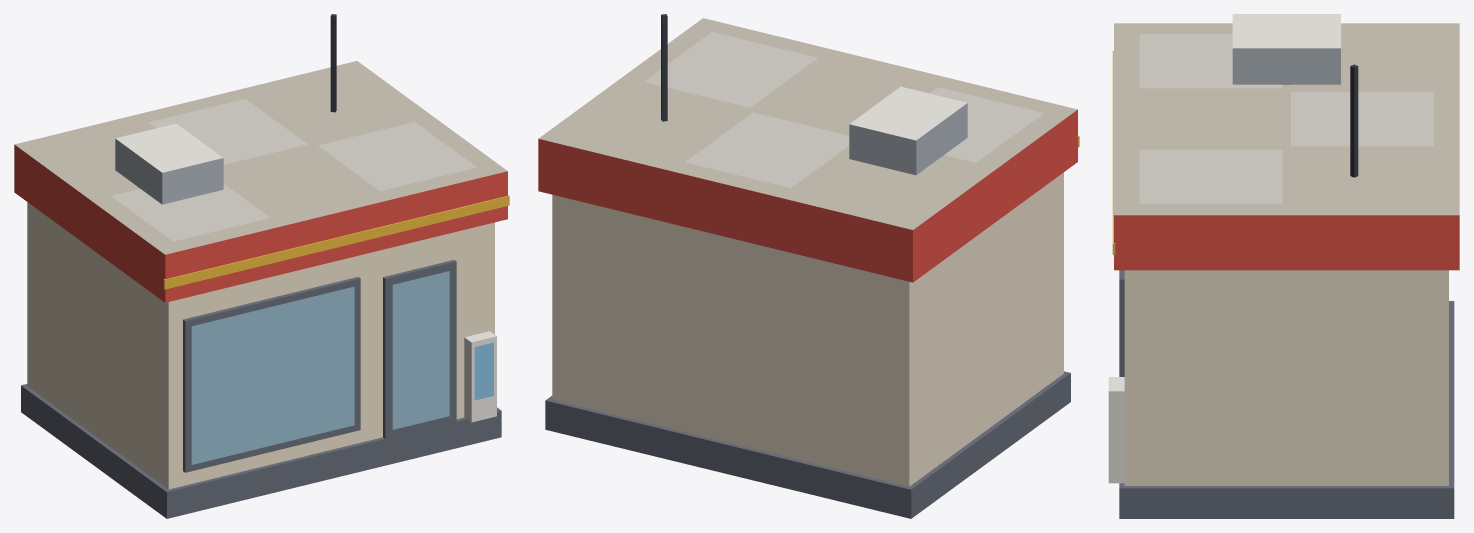
File: B_GasShop.fbx
3 views of the same model, side by side, from view 1: azimuth 30°, elevation 25°; view 2: azimuth 150°, elevation 25°; view 3: azimuth 270°, elevation 25° (orthographic). The views are drawn at different scales.
Visible parts, largest first — view 1: B_GasShop; view 2: B_GasShop; view 3: B_GasShop.
Boxes of the visible parts, bbox=[...] form: B_GasShop: bbox=[14, 14, 509, 518]; B_GasShop: bbox=[538, 14, 1079, 518]; B_GasShop: bbox=[1108, 14, 1459, 518].
Bounding box in the file's own units: 3.38 × 3.4 × 2.6.
